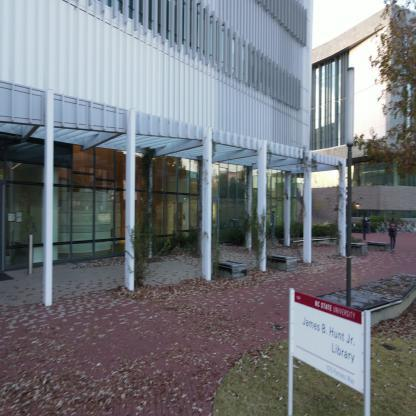Fitts- Woolard: (336, 5, 415, 214)
Hunt Library: (0, 0, 327, 318)
